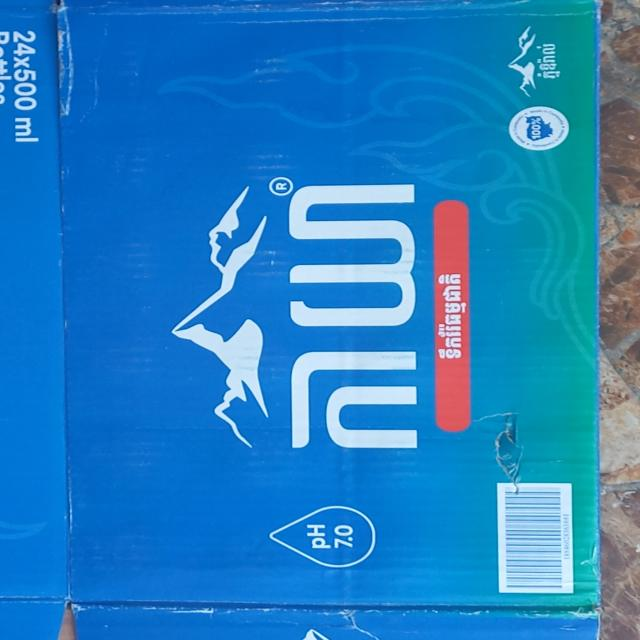534: (527, 124, 547, 142)
666: (12, 28, 40, 58)
776: (12, 68, 41, 109)
822: (331, 521, 354, 551)
Yolov11_80vkh: (278, 172, 431, 471), (435, 269, 470, 365), (533, 41, 564, 81)
